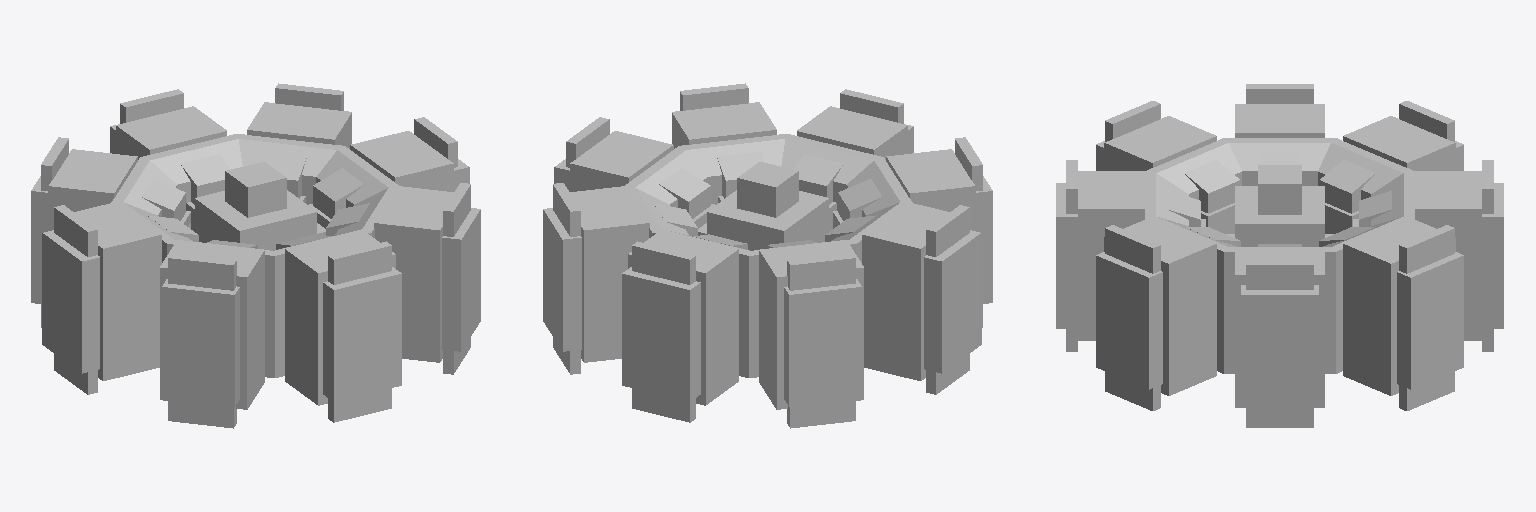
File: generator_coil.obj
3 renders of one model, left to right at view 1: azimuth 30°, elevation 25°; view 2: azimuth 150°, elevation 25°; view 3: azimuth 270°, elevation 25°, orthographic.
Visible parts, largest first — view 1: tube, cube.006, cube.014, cube.032, cube.036, cube.008, cube.012, cube.030, cube.038, RodCase, cube.024, cube.019 (+17 smaller); view 2: tube, cube.006, cube.002, cube.026, cube.042, cube.008, cube, cube.024, cube.044, RodCase, cube.030, cube.019 (+17 smaller); view 3: tube, cube.020, cube.036, cube.042, cube.038, cube.044, cube, cube.012, RodCase, cube.024, cube.030, cube.018 (+17 smaller).
Boxes of the visible parts, x1,y1,x2,y2 form: tube: [111, 134, 398, 377]; cube.006: [74, 202, 161, 380]; cube.014: [323, 267, 401, 401]; cube.032: [162, 279, 239, 406]; cube.036: [374, 186, 453, 362]; cube.008: [42, 230, 99, 373]; cube.012: [285, 230, 395, 405]; cube.030: [160, 240, 264, 409]; cube.038: [442, 208, 480, 351]; RodCase: [195, 190, 316, 250]; cube.024: [48, 149, 137, 230]; cube.019: [350, 131, 453, 191]; tube: [625, 134, 912, 377]; cube.006: [862, 202, 949, 380]; cube.002: [622, 267, 700, 401]; cube.026: [784, 279, 861, 406]; cube.042: [570, 186, 649, 362]; cube.008: [924, 230, 981, 373]; cube: [628, 230, 738, 405]; cube.024: [759, 240, 863, 409]; cube.044: [543, 208, 581, 351]; RodCase: [707, 190, 828, 250]; cube.030: [886, 149, 975, 230]; cube.019: [570, 131, 673, 191]; tube: [1145, 138, 1414, 373]; cube.020: [1241, 285, 1318, 406]; cube.036: [1104, 216, 1216, 395]; cube.042: [1343, 216, 1455, 395]; cube.038: [1096, 252, 1162, 389]; cube.044: [1397, 252, 1463, 389]; cube: [1415, 171, 1481, 340]; cube.012: [1078, 171, 1144, 340]; RodCase: [1235, 186, 1324, 246]; cube.024: [1343, 116, 1455, 170]; cube.030: [1104, 116, 1216, 170]; cube.018: [1246, 260, 1313, 427].
Bounding box in the file's own units: 2.49 × 1 × 2.49.